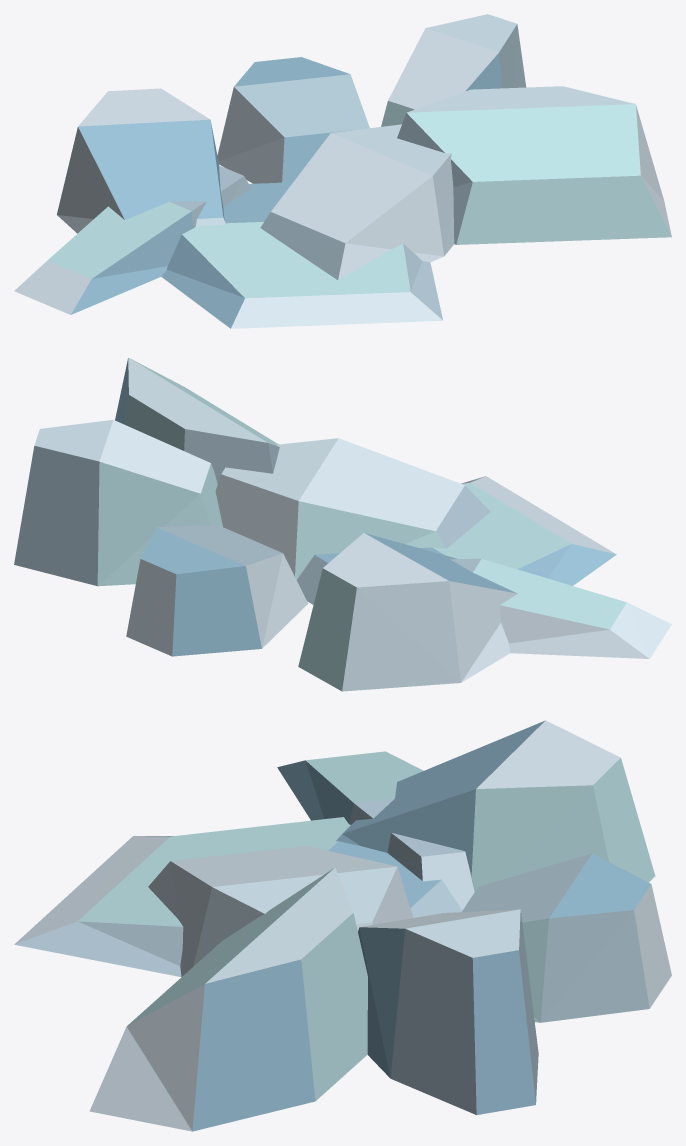
The model's file is Ice Rocks 4.fbx.
The picture shows the model from 3 angles, top to bottom: view 1: azimuth 30°, elevation 25°; view 2: azimuth 150°, elevation 25°; view 3: azimuth 270°, elevation 25°; orthographic projection. The views are drawn at different scales.
Parts seen in each view (by area): view 1: Ice block 4; view 2: Ice block 4; view 3: Ice block 4.
Part boxes in pixels (x1,y1,x2,y2): Ice block 4: (14,14,671,328); Ice block 4: (14,357,671,691); Ice block 4: (14,720,671,1131).
Size of the model in its own units: 995 by 182 by 736.
